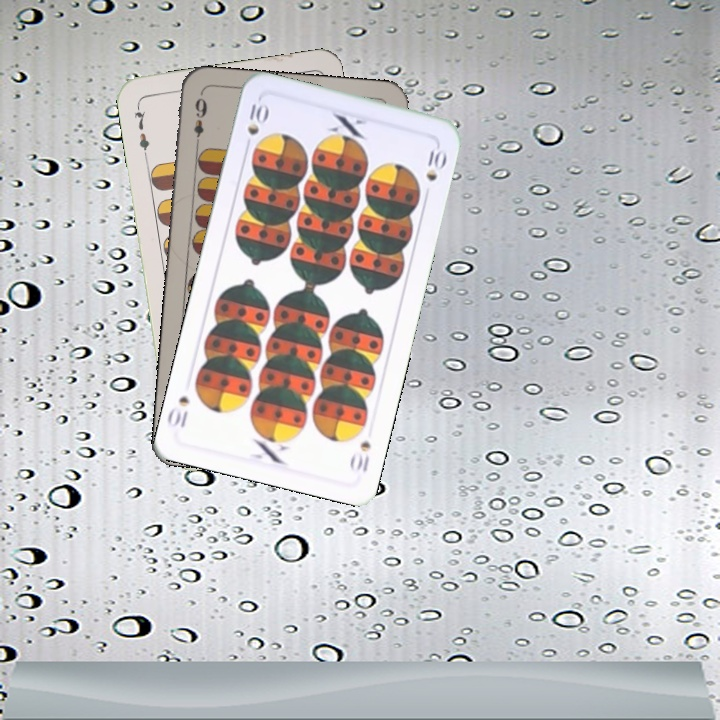E7: (130, 101, 152, 160)
E9: (190, 91, 210, 150)
S10: (241, 96, 271, 154), (352, 437, 373, 475)
